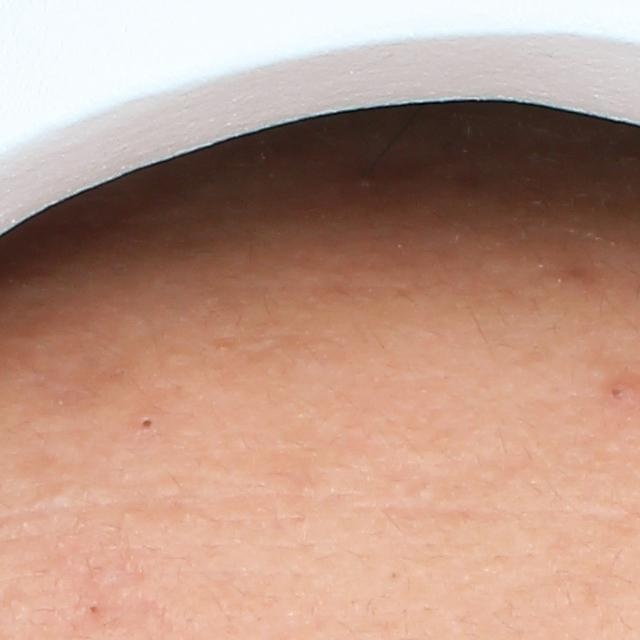comedo: (129, 412, 160, 437), (81, 600, 106, 625)
